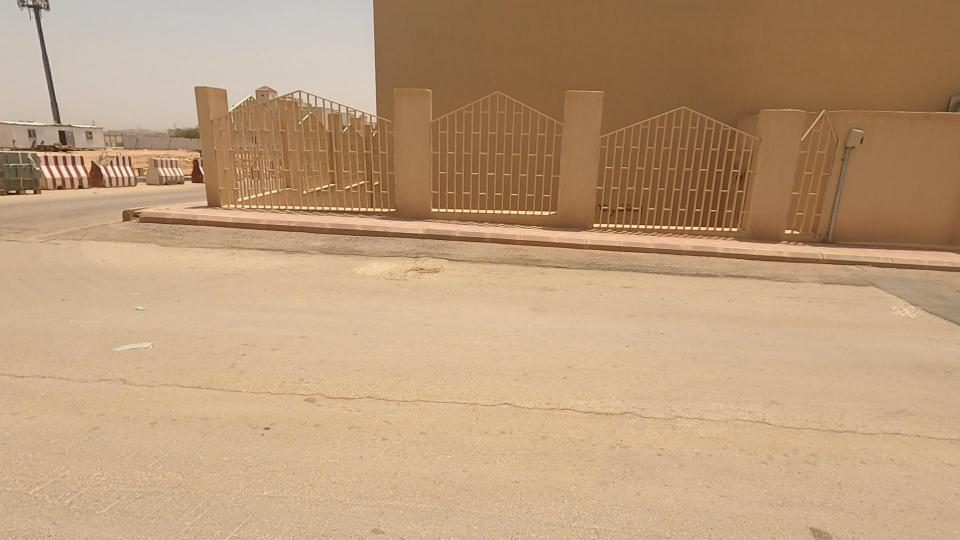CONSTRUCTION_ROAD: (0, 107, 252, 224)
